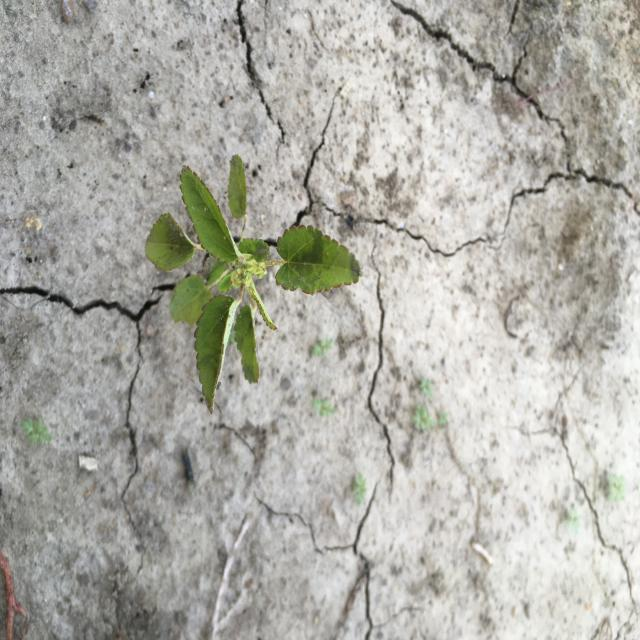PricklySida: (144, 154, 363, 416)
